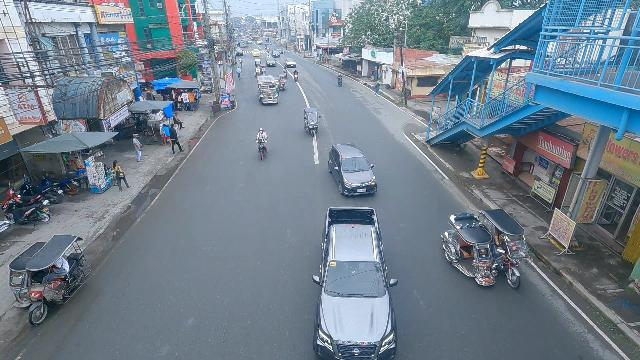car: (326, 142, 380, 198), (284, 58, 297, 68), (266, 58, 276, 67), (271, 50, 281, 58), (235, 48, 243, 56), (253, 48, 260, 57), (275, 48, 283, 54)
jeepney: (256, 75, 279, 106)
motorcycle: (255, 127, 269, 161), (337, 72, 343, 86), (293, 69, 299, 82), (282, 67, 288, 74), (266, 46, 270, 53)
pickup-truck: (309, 206, 401, 359)
